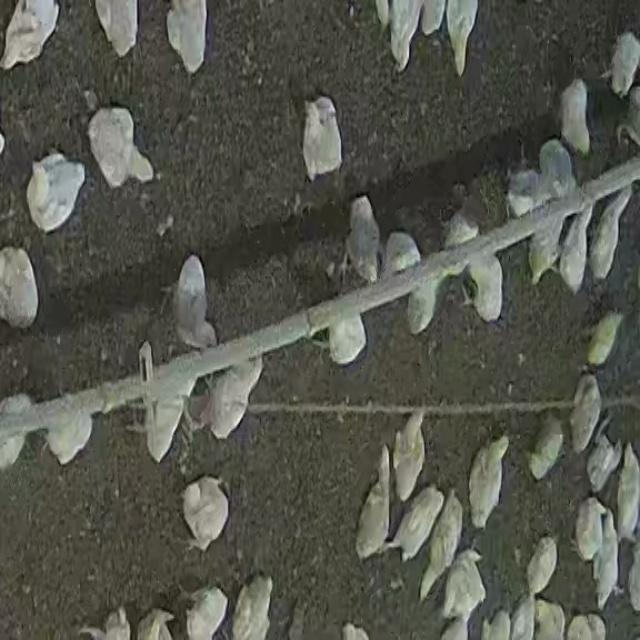chicken: (88, 109, 156, 185), (206, 356, 266, 442), (27, 152, 87, 233), (389, 486, 445, 564), (418, 495, 462, 593), (357, 449, 395, 560), (1, 1, 60, 72), (174, 253, 216, 349), (589, 188, 631, 282), (180, 476, 230, 554), (466, 438, 508, 528), (438, 552, 488, 620), (43, 401, 94, 467), (302, 98, 342, 182), (392, 410, 427, 506), (1, 246, 40, 330), (165, 1, 208, 76), (345, 196, 381, 284), (384, 1, 425, 70), (563, 200, 593, 293), (463, 254, 502, 324), (231, 576, 273, 640), (567, 376, 601, 455), (92, 1, 139, 58), (1, 395, 36, 469), (446, 1, 480, 77), (614, 442, 640, 540), (528, 416, 566, 481), (592, 527, 621, 607), (184, 586, 228, 638), (560, 80, 590, 156), (327, 312, 368, 367), (573, 500, 608, 564), (607, 32, 640, 97), (585, 423, 619, 486), (524, 536, 558, 598), (586, 312, 623, 368), (441, 200, 479, 250)
